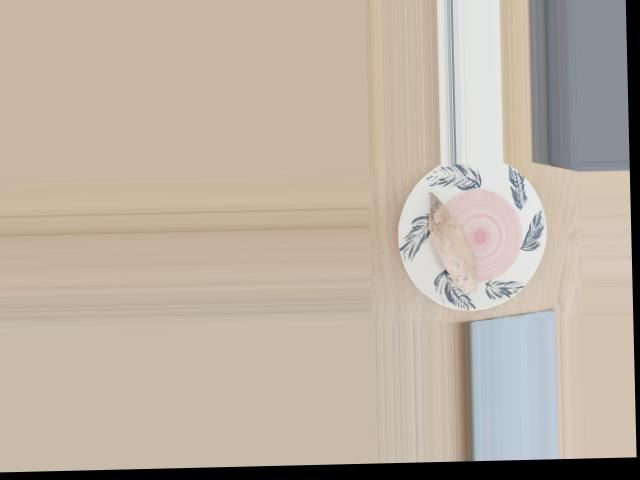sweet_potato: (427, 201, 481, 288)
